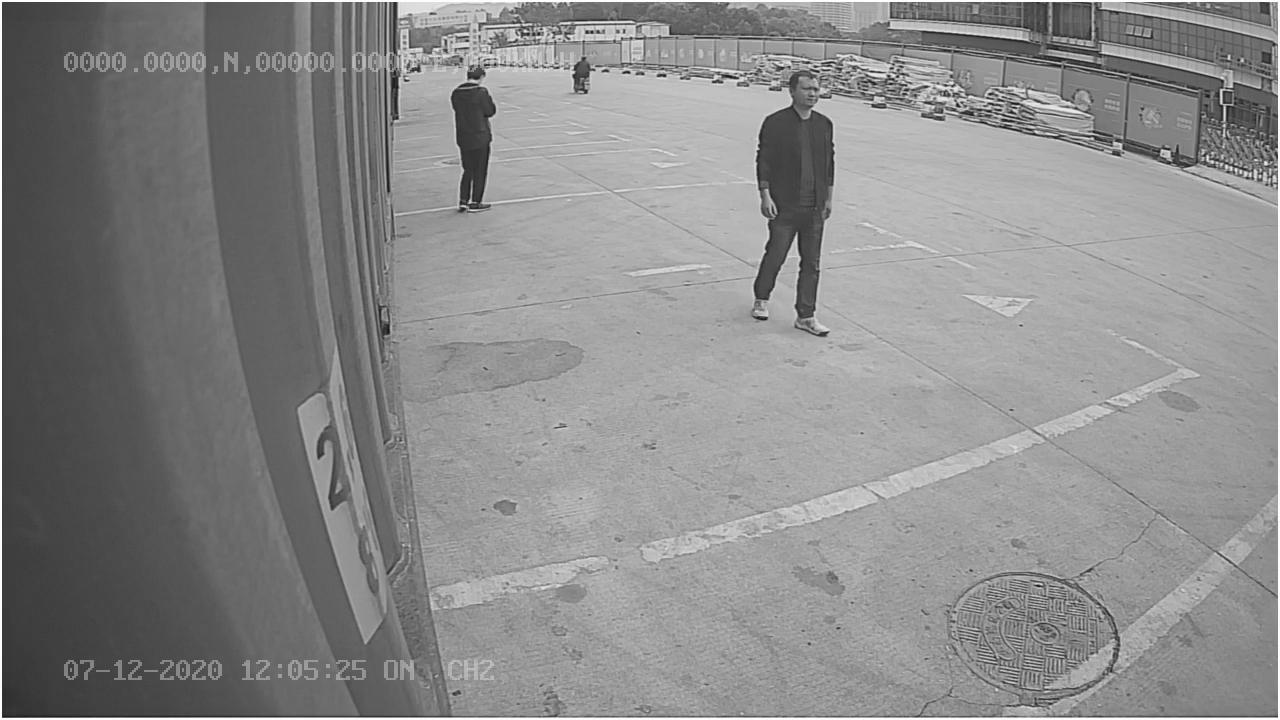person: (745, 72, 841, 336)
